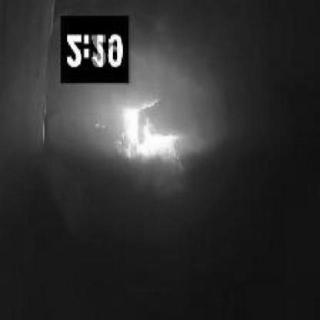Fire: (108, 106, 182, 168)
